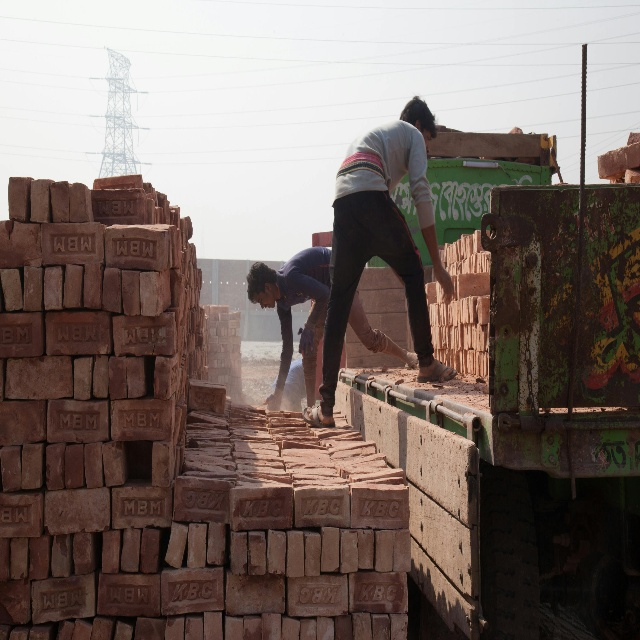Guantes: (297, 322, 316, 362), (262, 384, 283, 412)
Sin_guantes: (439, 270, 454, 306)
